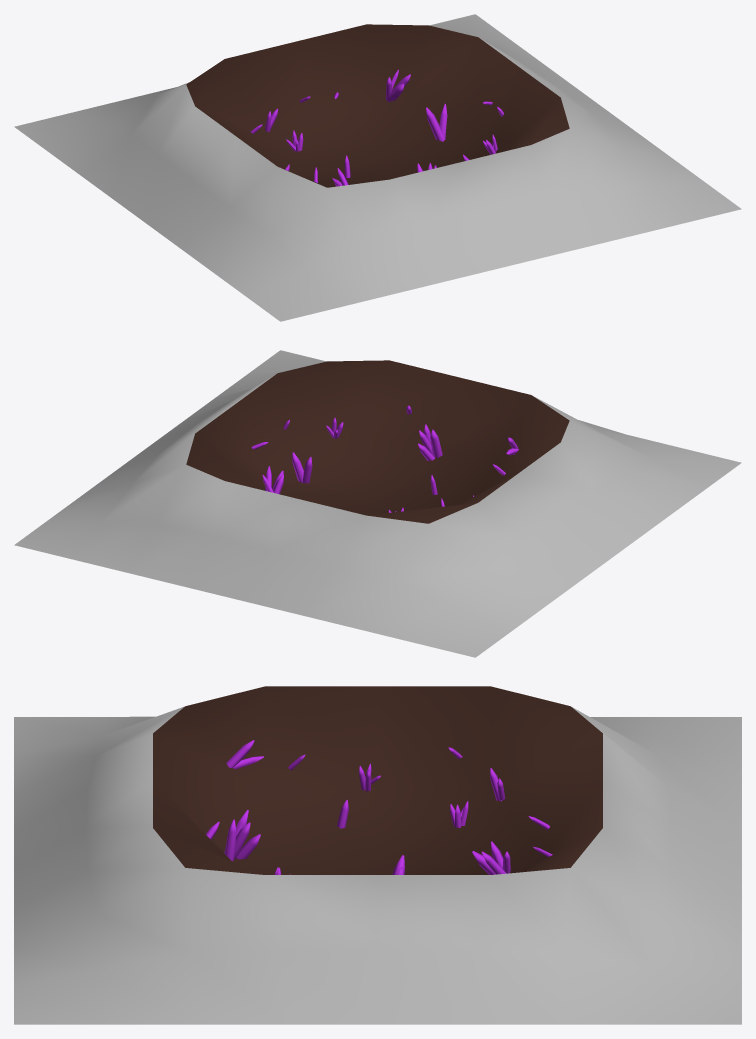
File: berezeniumField.fbx
3 views of the same model, one above another, from view 1: azimuth 30°, elevation 25°; view 2: azimuth 150°, elevation 25°; view 3: azimuth 270°, elevation 25° (orthographic). The views are drawn at different scales.
Parts seen in each view (by area): view 1: Field; view 2: Field; view 3: Field.
Part boxes in pixels (x1,y1,x2,y2): Field: (14,14,741,321); Field: (14,350,741,657); Field: (14,686,741,1024).
Bounding box in the file's own units: 1592 × 218 × 1592.
